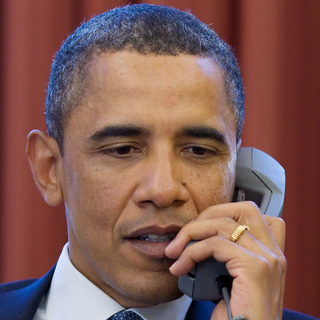eye: (94, 139, 145, 163), (177, 139, 221, 164)
